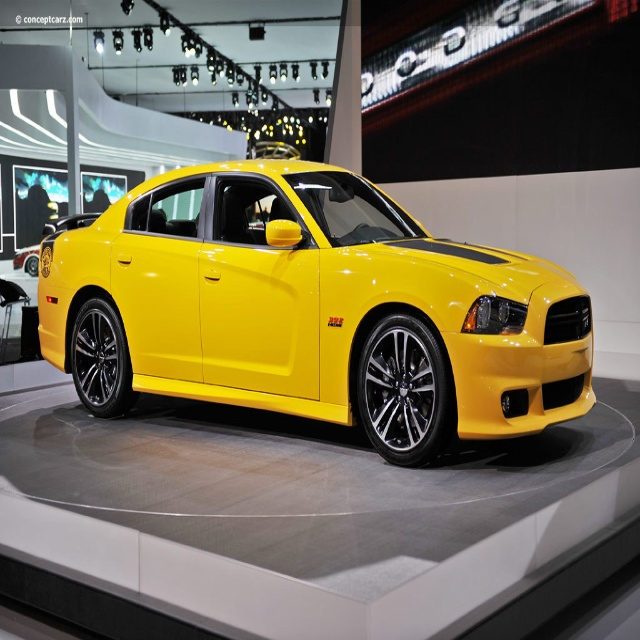Car: (37, 157, 596, 468)
